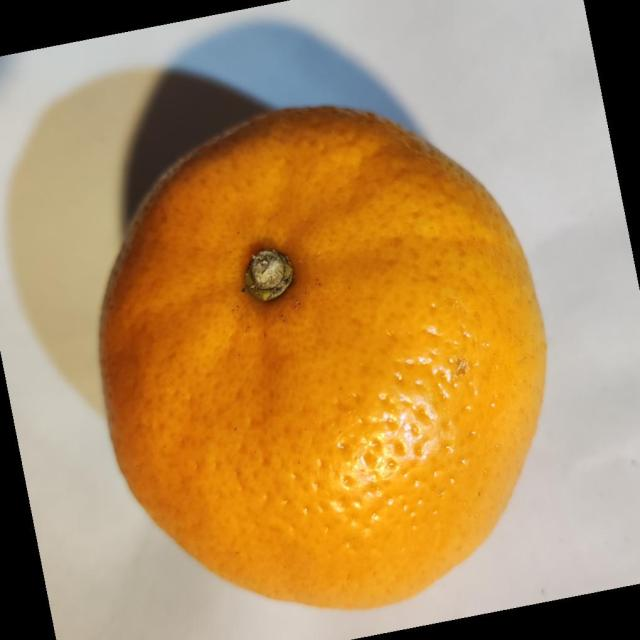fresh orange: (97, 103, 548, 610)
